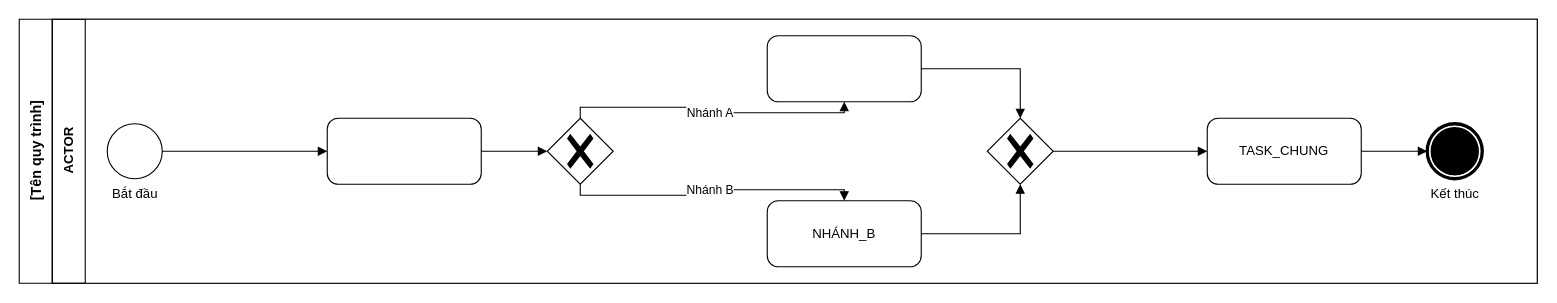
The diagram is 1557 pixels wide and 303 high, and some of its shapes have lost their labels. The box of each missing label's shape, as (x1, y1, x2, y2) in pixels:
DECISION?: (546, 117, 613, 184)
NHÁNH_A: (766, 35, 921, 102)
TASK_1: (326, 117, 481, 184)
